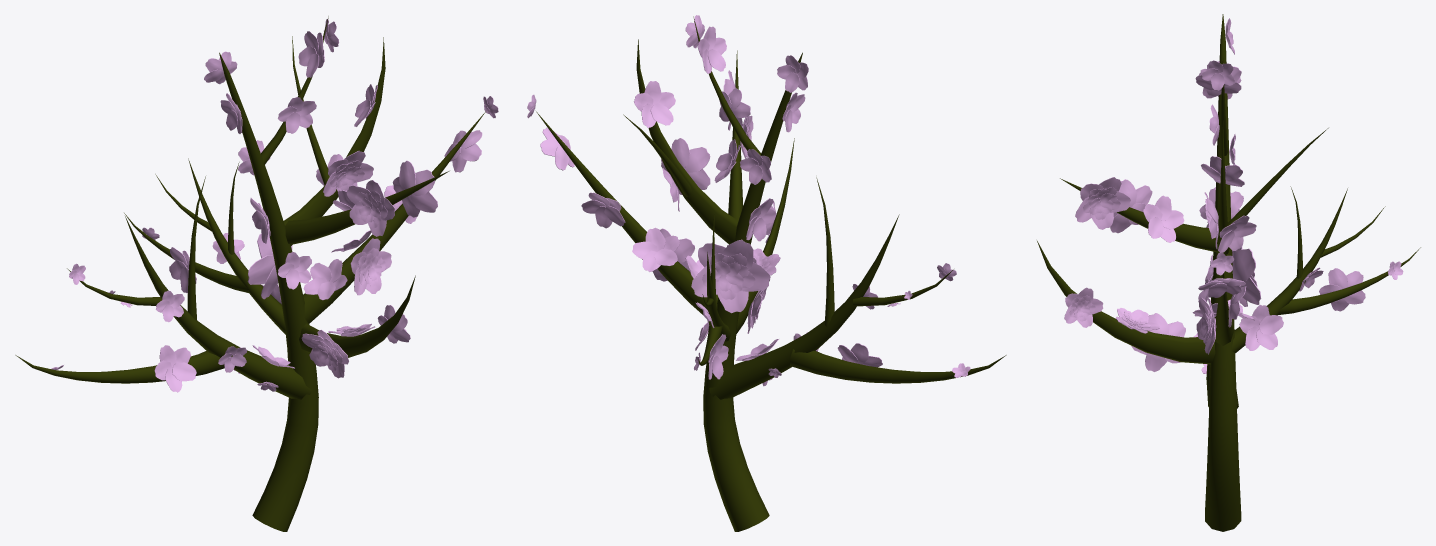
Rendered from sakura.fbx.
3 views of the same model, side by side, from view 1: azimuth 30°, elevation 25°; view 2: azimuth 150°, elevation 25°; view 3: azimuth 270°, elevation 25° (orthographic).
Parts seen in each view (by area): view 1: feuilles88; view 2: feuilles88; view 3: feuilles88.
Part boxes in pixels (x1,y1,x2,y2): feuilles88: [15, 16, 498, 531]; feuilles88: [527, 15, 1006, 531]; feuilles88: [1037, 14, 1420, 531].
Size of the model in its own units: 28.67 by 28.86 by 20.23.
